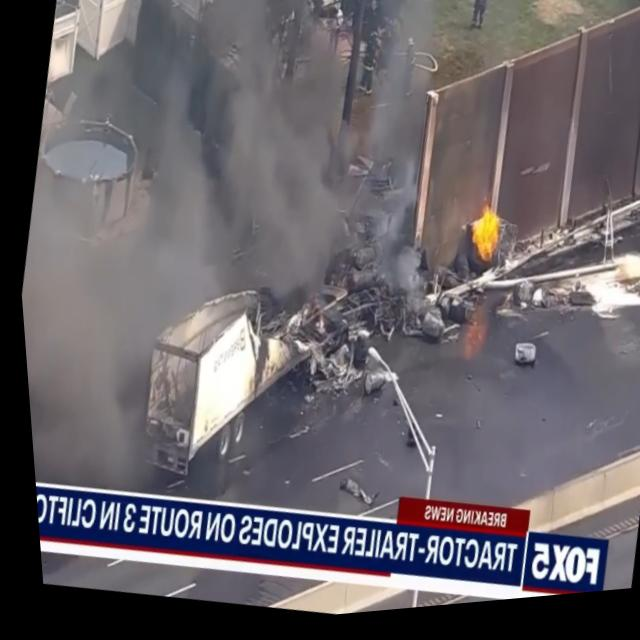Fire: (456, 206, 508, 277)
